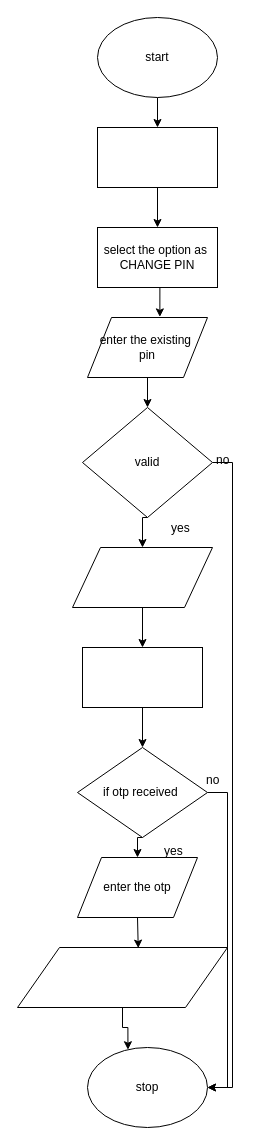
Some shapes in this 262 by 1145 pixel diagram are drawn without their labels. The shapes that lost their labels are listed below. From the top down, each one's centre as x and y in pixels, then its label:
At [157,157]: "insert card".
At [142,577]: "enter the new pin".
At [142,677]: "otp will sent by the system to the your phone number".
At [122,977]: "display pin change successful".
